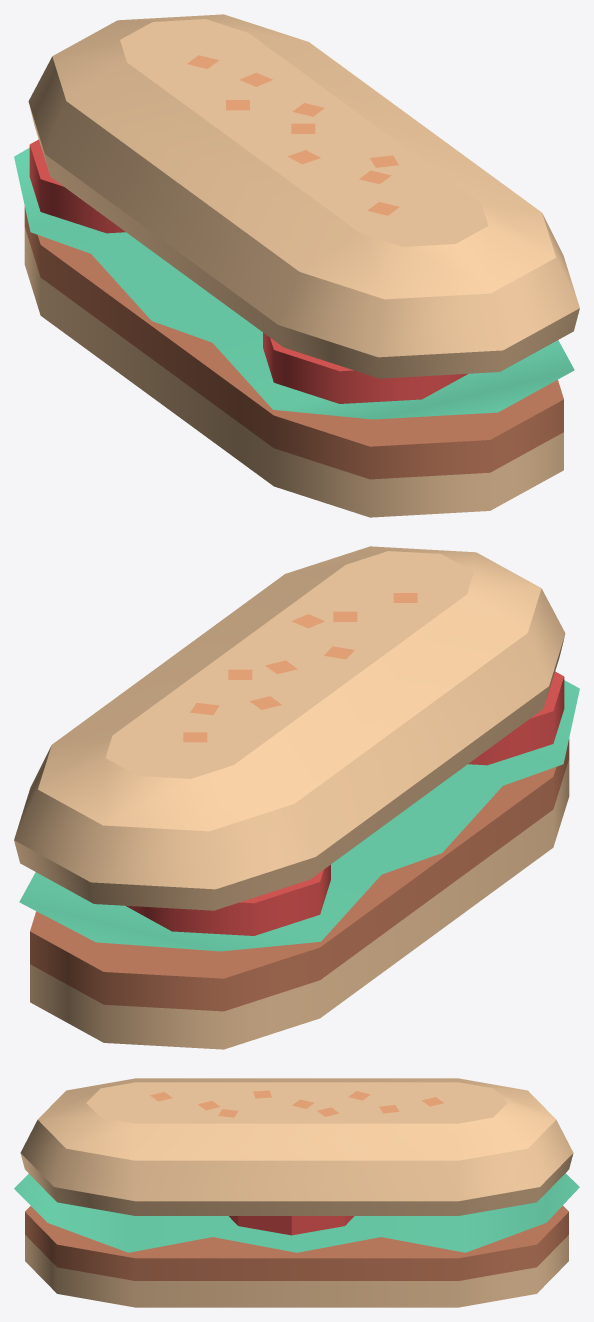
3 renders of one model, top to bottom at view 1: azimuth 30°, elevation 25°; view 2: azimuth 150°, elevation 25°; view 3: azimuth 270°, elevation 25°, orthographic. The views are drawn at different scales.
Visible parts, largest first — view 1: sub, meat, lettuce, tomaties (×2); view 2: sub, meat, lettuce, tomaties (×2); view 3: sub, meat, lettuce, Group.
Part boxes in pixels (x1,y1,x2,y2): sub: [24, 14, 579, 517]; meat: [24, 206, 563, 479]; lettuce: [14, 148, 574, 419]; tomaties (×2): [29, 139, 468, 403]; sub: [14, 546, 569, 1049]; meat: [30, 738, 569, 1011]; lettuce: [19, 680, 579, 951]; tomaties (×2): [125, 671, 564, 935]; sub: [20, 1078, 573, 1307]; meat: [25, 1205, 568, 1280]; lettuce: [14, 1173, 579, 1252]; Group: [229, 1216, 354, 1235].
Bounding box in the file's own units: 0.1004 × 0.0755 × 0.24.
